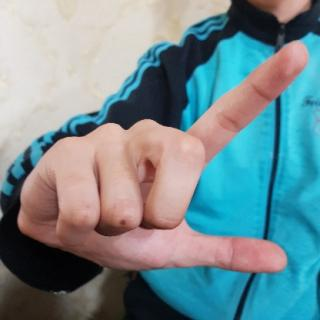LAAM: (11, 38, 313, 278)
